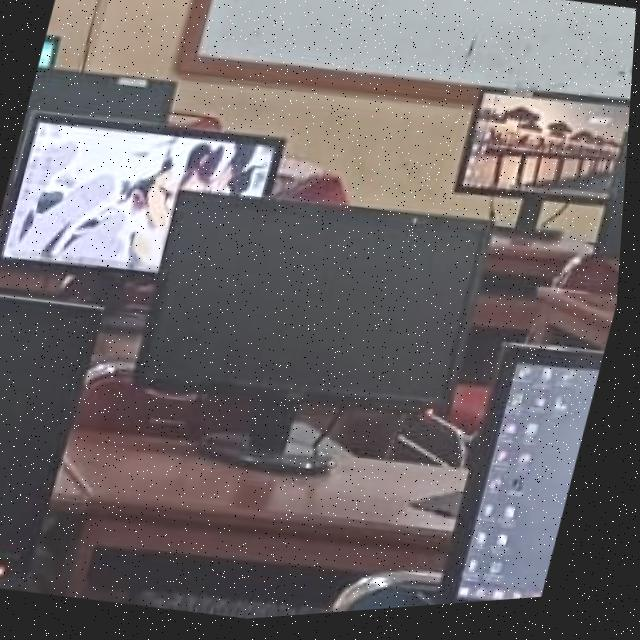offscreen: (143, 196, 492, 411), (452, 355, 606, 609), (0, 295, 108, 591), (32, 69, 177, 126)
onscreen: (4, 114, 286, 275)
